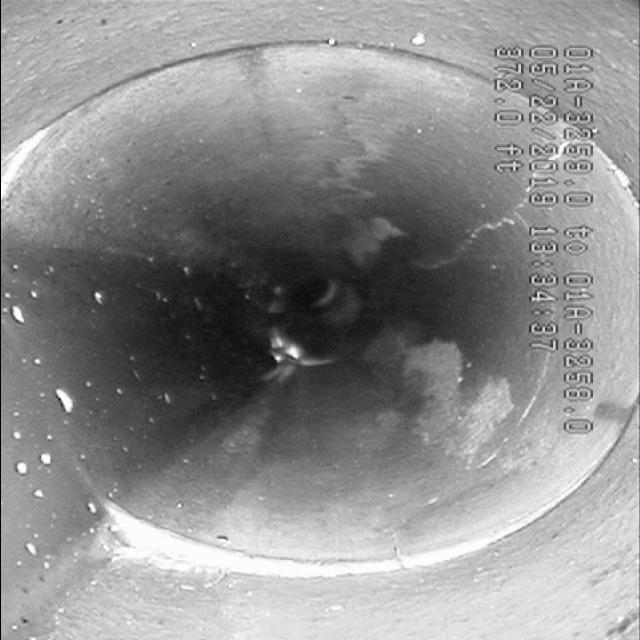Crack: (389, 104, 605, 300)
